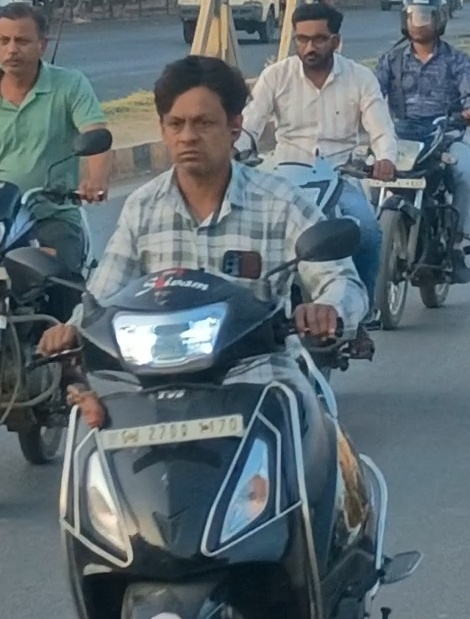BikeWithRider: (4, 52, 425, 619), (0, 0, 116, 465), (243, 0, 396, 303), (370, 0, 470, 331)
Helmet: (400, 0, 454, 47)
NoHelmet: (151, 54, 250, 177), (286, 0, 349, 75), (0, 0, 50, 77)
